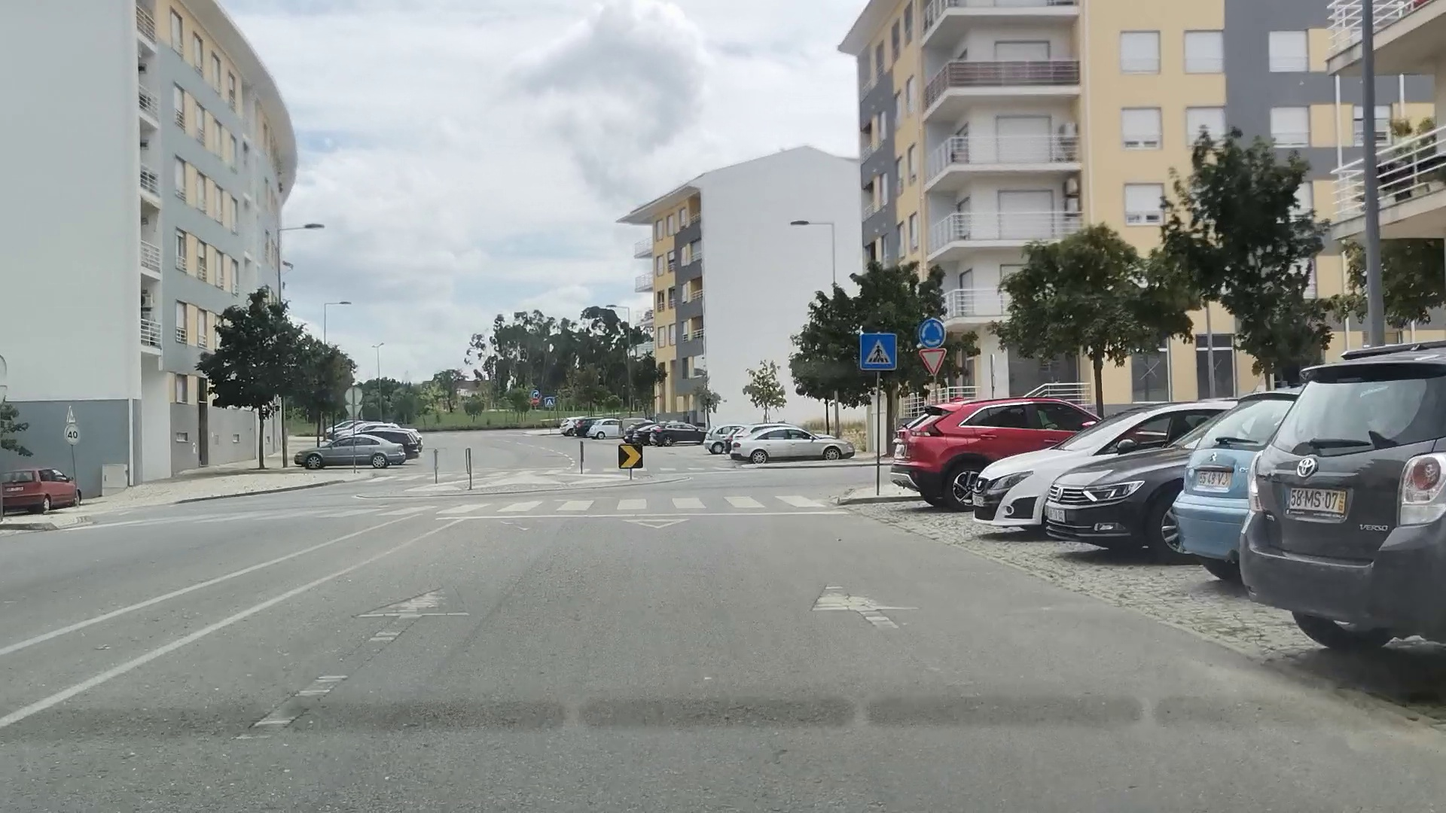Stairs: (73, 489, 827, 533)
